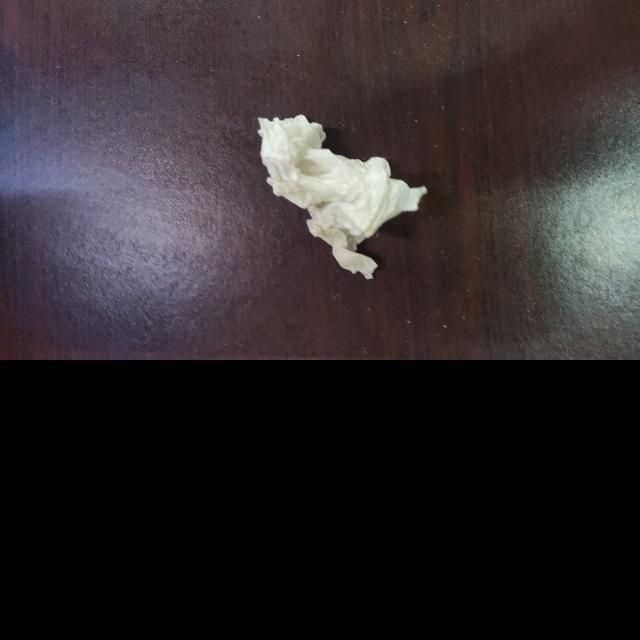kitchen paper: (252, 94, 441, 286)
